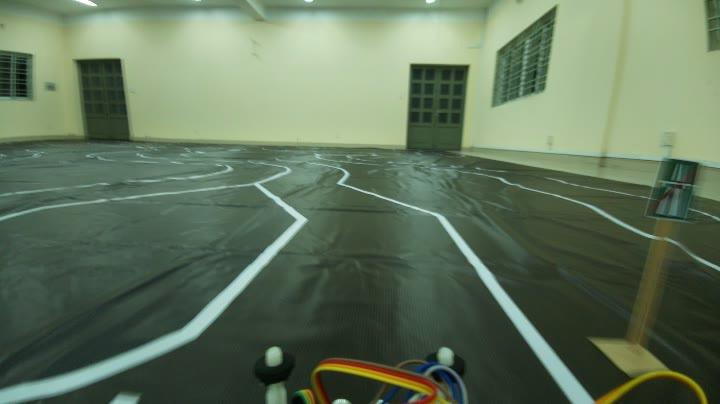highway_exit: (646, 146, 698, 223)
